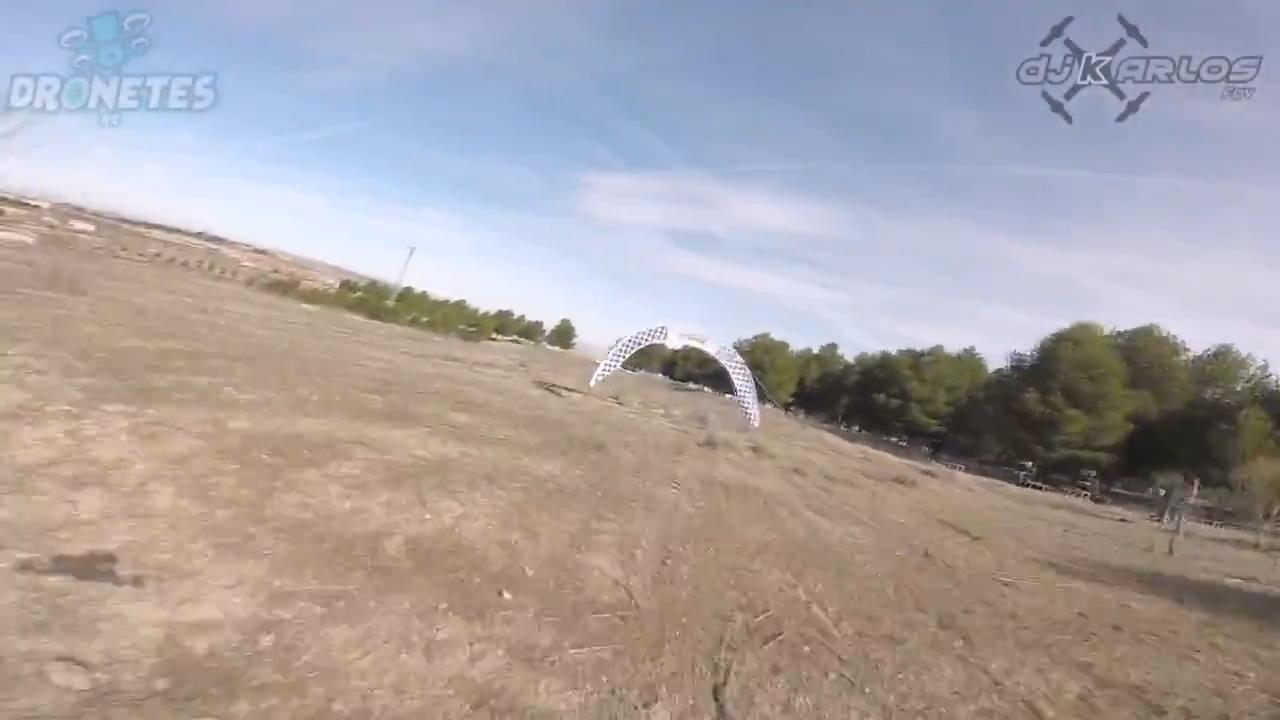gate: (591, 323, 761, 429)
